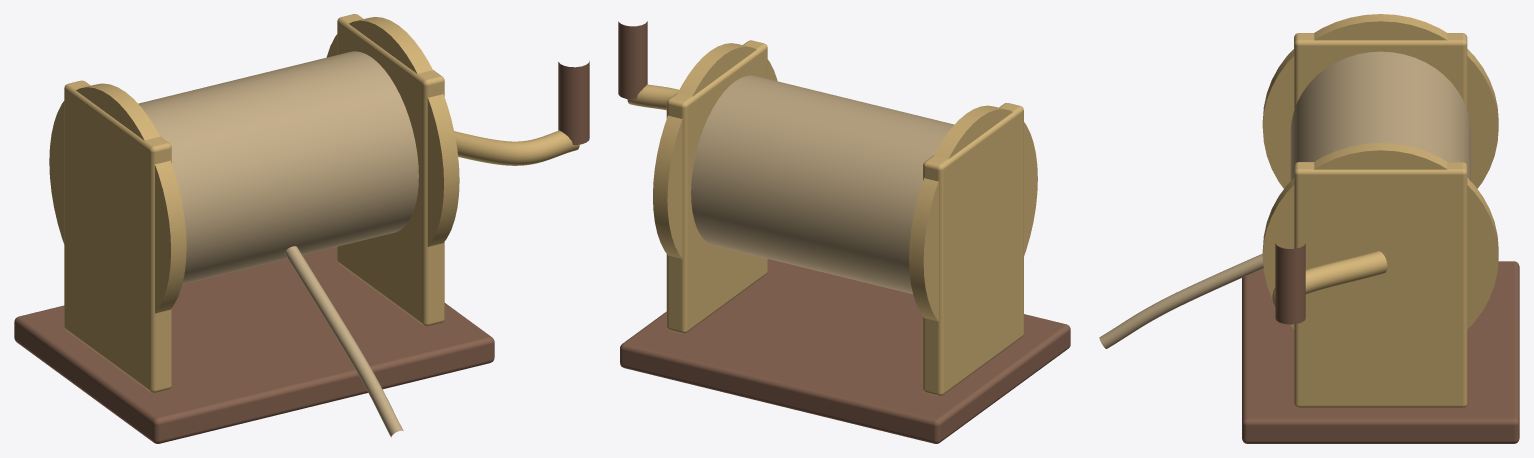
Rendered from griffin-airmail-roost-and-posthouse-cargo-hand-winch-58c61046__30540.glb.
The picture shows the model from 3 angles, left to right: view 1: azimuth 30°, elevation 25°; view 2: azimuth 150°, elevation 25°; view 3: azimuth 270°, elevation 25°; orthographic projection. The views are drawn at different scales.
Visible parts, largest first — view 1: cargo-hand-winch; view 2: cargo-hand-winch; view 3: cargo-hand-winch.
Part boxes in pixels (box(x1,y1,x2,y2)): cargo-hand-winch: box(14, 14, 589, 443); cargo-hand-winch: box(618, 21, 1070, 443); cargo-hand-winch: box(1099, 14, 1519, 443).
Bounding box in the file's own units: 0.737 × 0.45 × 0.6055.
